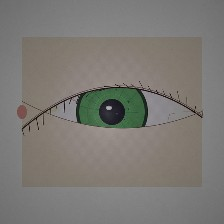pinguecula_lesion: (20, 89, 70, 128)
